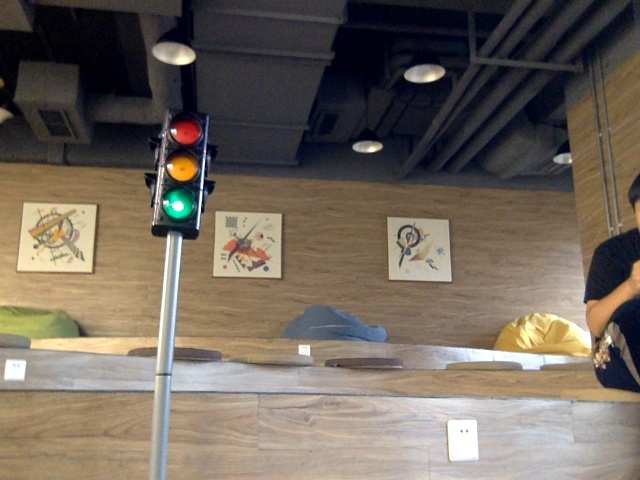green: (159, 122, 200, 228)
